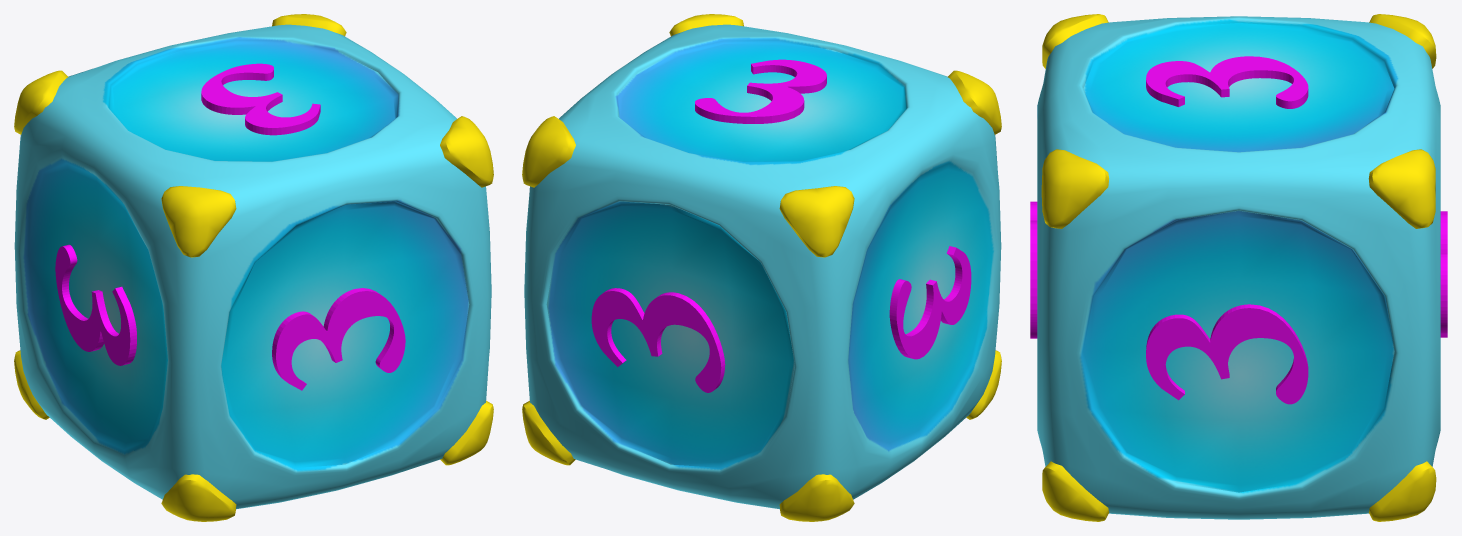
The model's file is Dice3.fbx.
The picture shows the model from 3 angles, left to right: view 1: azimuth 30°, elevation 25°; view 2: azimuth 150°, elevation 25°; view 3: azimuth 270°, elevation 25°; orthographic projection. The views are drawn at different scales.
Parts seen in each view (by area): view 1: Cube.002, acessery, Text6_03, Text2_03, Text3_03; view 2: Cube.002, acessery, Text5_03, Text2_03, Text3_03; view 3: Cube.002, acessery, Text4_03, Text3_03, Text6_03, Text5_03.
Part boxes in pixels (x1,y1,x2,y2): Cube.002: (14,24,491,509); acessery: (14,14,493,521); Text6_03: (272,288,405,390); Text2_03: (55,244,136,365); Text3_03: (201,63,320,135); Cube.002: (524,24,1001,509); acessery: (522,14,1001,521); Text5_03: (591,288,725,392); Text2_03: (889,246,971,359); Text3_03: (695,59,826,123); Cube.002: (1037,16,1440,519); acessery: (1041,14,1436,521); Text4_03: (1146,304,1308,404); Text3_03: (1146,56,1308,108); Text6_03: (1030,201,1037,338); Text5_03: (1440,211,1447,337).
Size of the model in its own units: 203 by 203 by 203.
